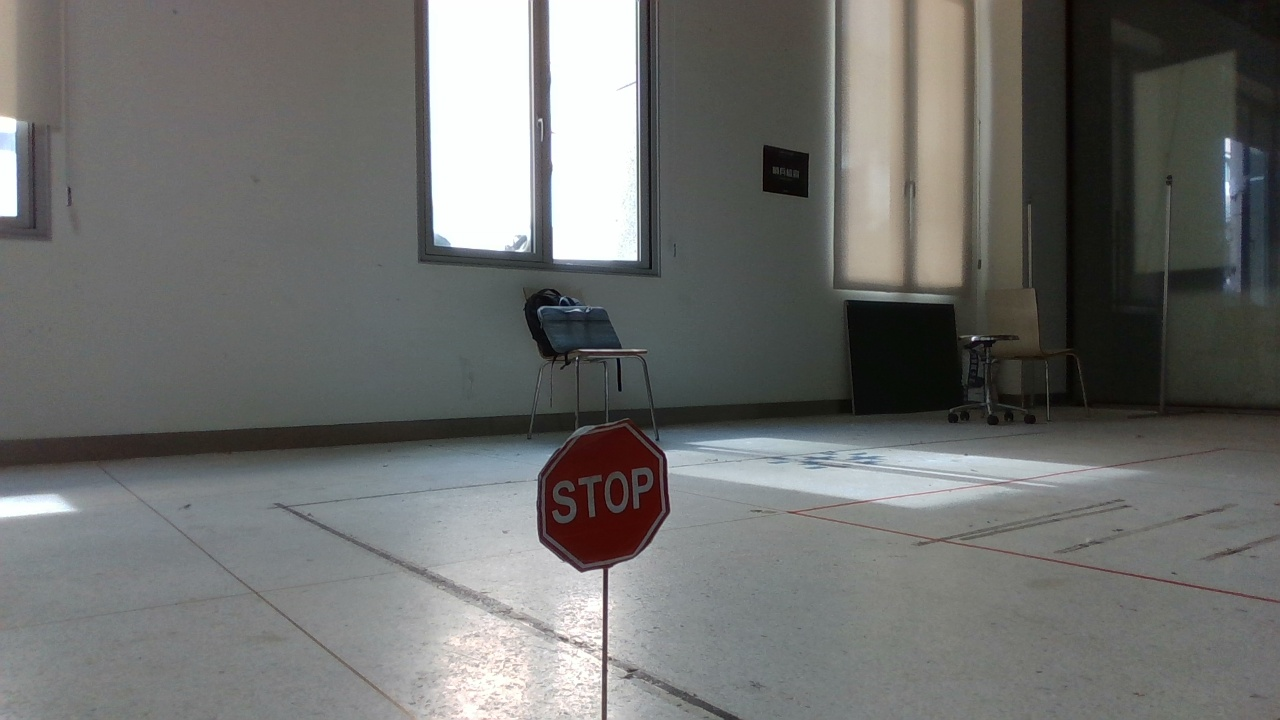stop_sign: (522, 409, 702, 720)
